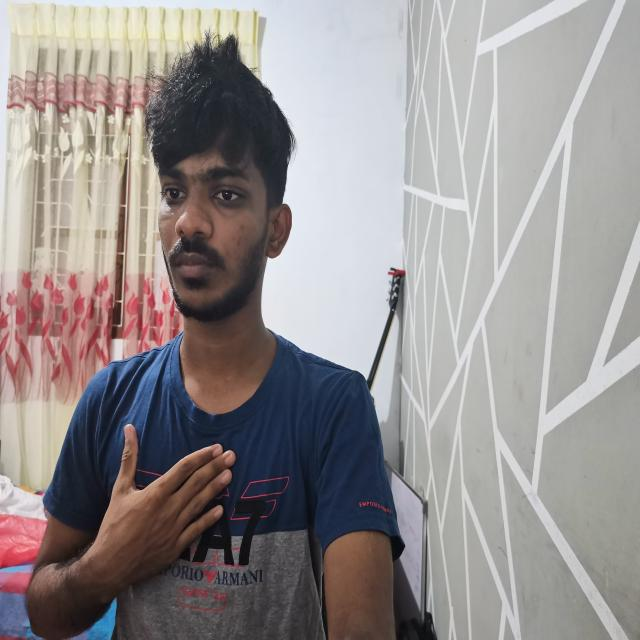Please: (4, 421, 242, 640)
